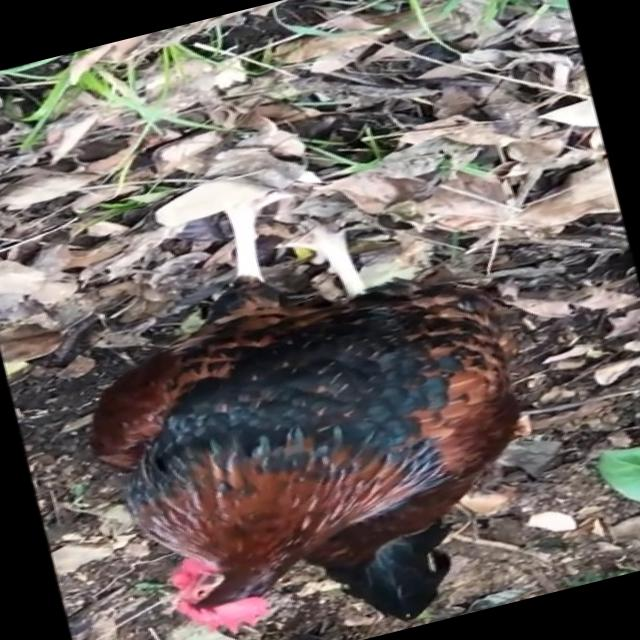self preening: (19, 106, 590, 640)
